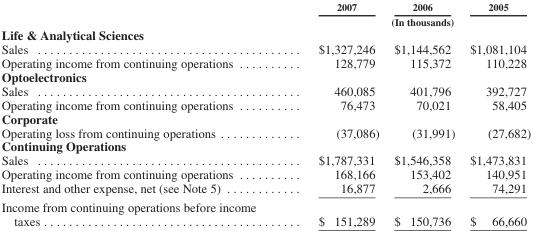table: (0, 0, 530, 227)
table column: (0, 0, 286, 227), (286, 0, 386, 227), (386, 0, 461, 227), (461, 0, 530, 227)
table column header: (0, 0, 530, 27)
table projected row header: (0, 27, 530, 41), (0, 69, 530, 83), (0, 111, 530, 125), (0, 139, 530, 153)
table row: (0, 197, 530, 227), (0, 180, 530, 197), (0, 0, 530, 14), (0, 27, 530, 41), (0, 41, 530, 55), (0, 55, 530, 69), (0, 69, 530, 83), (0, 83, 530, 97), (0, 97, 530, 111), (0, 111, 530, 125), (0, 125, 530, 139), (0, 139, 530, 153), (0, 166, 530, 180), (0, 14, 530, 27), (0, 153, 530, 166)
table spanning cell: (286, 14, 530, 27)
